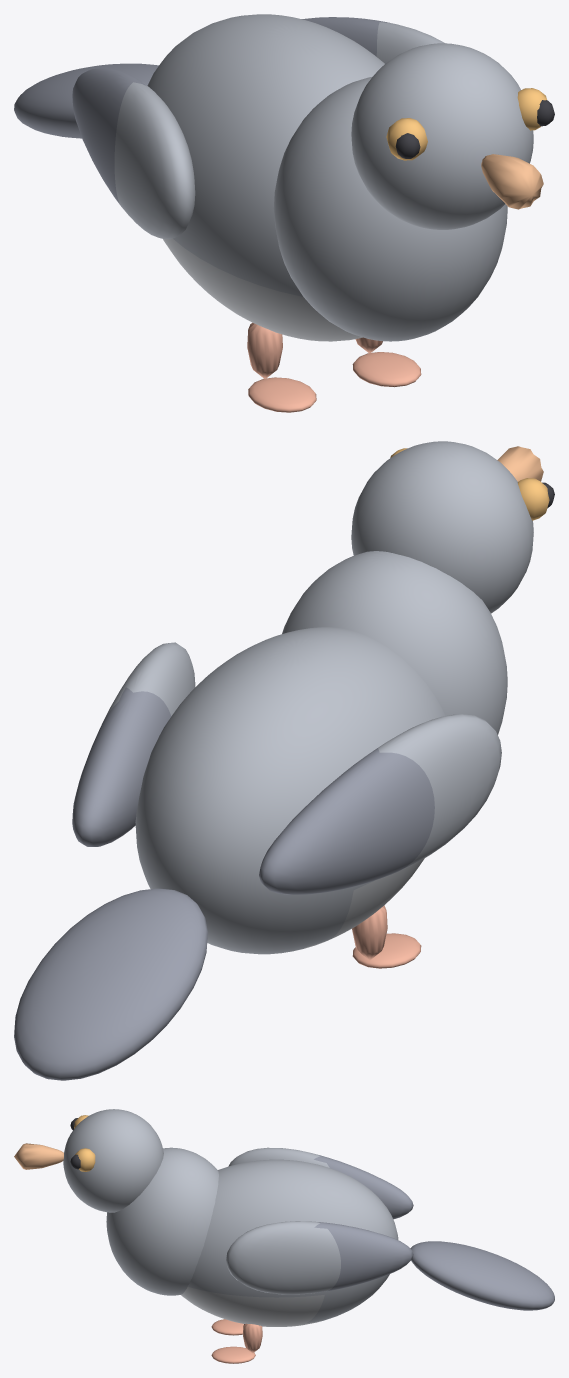
The model's file is Pigeon.fbx.
The picture shows the model from 3 angles, top to bottom: view 1: azimuth 30°, elevation 25°; view 2: azimuth 150°, elevation 25°; view 3: azimuth 270°, elevation 25°; orthographic projection. The views are drawn at different scales.
Visible parts, largest first — view 1: Body, Chest, Head, WingL, Tail, WingR, Beak, FootLtoe, FootRtoe, FootL, EyeLr, EyeRr (+1 smaller); view 2: Body, Tail, WingL, Head, Chest, WingR, FootLtoe, FootL, Beak, EyeLr; view 3: Body, Chest, WingR, Head, Tail, WingL, Beak, FootRtoe, FootR, FootLtoe, EyeRr.
Part boxes in pixels (box(x1,y1,x2,y2)): Body: box(147, 14, 384, 341); Chest: box(273, 76, 507, 341); Head: box(351, 43, 533, 229); WingL: box(72, 68, 195, 239); Tail: box(14, 63, 158, 138); WingR: box(302, 17, 444, 63); Beak: box(481, 154, 543, 209); FootLtoe: box(248, 377, 316, 412); FootRtoe: box(352, 352, 421, 387); FootL: box(247, 322, 282, 378); EyeLr: box(386, 118, 427, 160); EyeRr: box(517, 88, 546, 130); Body: box(135, 627, 445, 954); Tail: box(14, 888, 207, 1080); WingL: box(259, 714, 501, 894); Head: box(351, 441, 533, 613); Chest: box(282, 551, 507, 734); WingR: box(72, 642, 195, 846); FootLtoe: box(352, 933, 421, 968); FootL: box(352, 905, 387, 960); Beak: box(497, 446, 543, 481); EyeLr: box(517, 478, 549, 520); Body: box(181, 1159, 398, 1326); Chest: box(106, 1147, 218, 1295); WingR: box(226, 1221, 413, 1294); Head: box(63, 1109, 163, 1212); Tail: box(410, 1241, 554, 1310); WingL: box(228, 1147, 413, 1219); Beak: box(14, 1143, 63, 1169); FootRtoe: box(211, 1346, 255, 1363); FootR: box(243, 1323, 262, 1353); FootLtoe: box(211, 1319, 243, 1335); EyeRr: box(75, 1148, 95, 1171).
Bounding box in the file's own units: 45.27 × 53.35 × 113.
